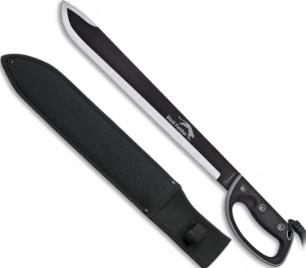MACHETTE: (59, 0, 306, 268)
